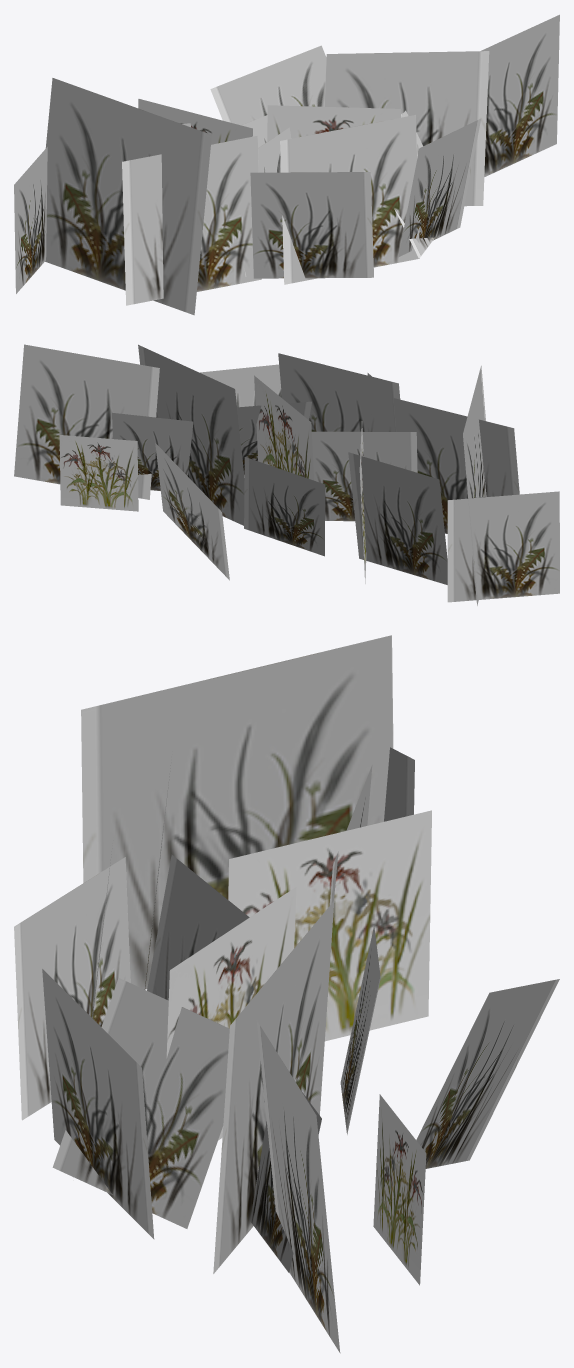
The model's file is FOL_BRGrass01.FBX.
3 renders of one model, top to bottom at view 1: azimuth 30°, elevation 25°; view 2: azimuth 150°, elevation 25°; view 3: azimuth 270°, elevation 25°, orthographic. The views are drawn at different scales.
Parts seen in each view (by area): view 1: FOL_BRGrass01; view 2: FOL_BRGrass01; view 3: FOL_BRGrass01.
Boxes of the visible parts, bbox=[...] form: FOL_BRGrass01: bbox=[14, 14, 559, 315]; FOL_BRGrass01: bbox=[14, 344, 559, 605]; FOL_BRGrass01: bbox=[14, 635, 559, 1353].
Size of the model in its own units: 388 by 128 by 189.
